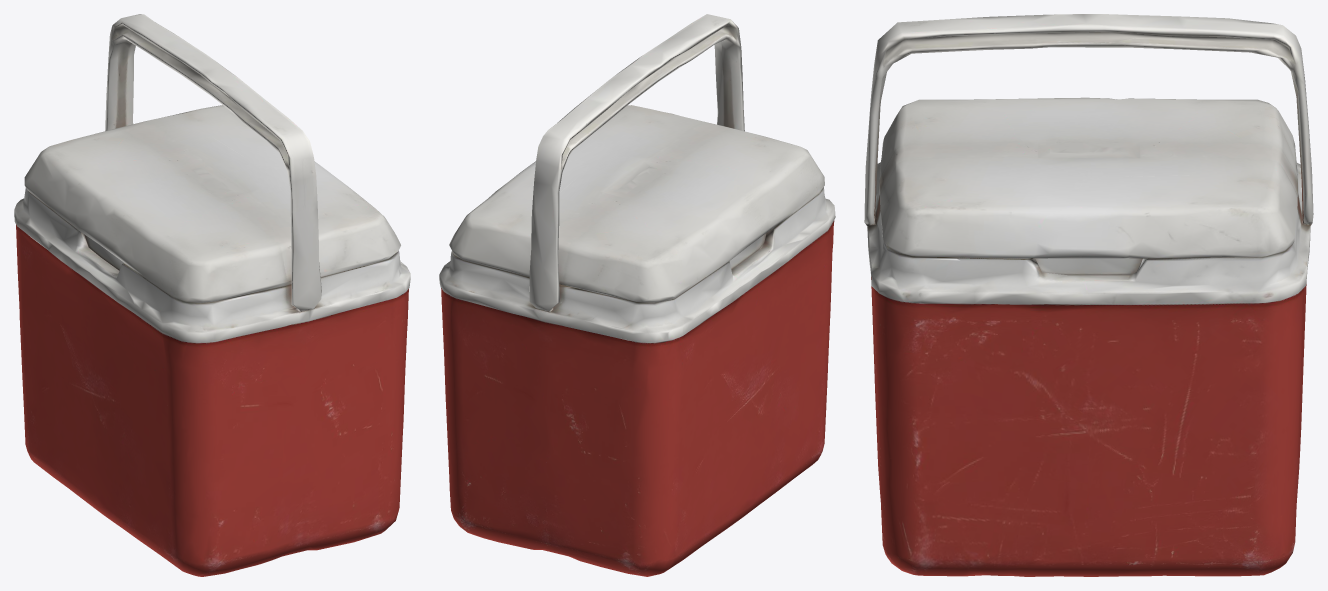
File: nevera.glb
3 renders of one model, left to right at view 1: azimuth 30°, elevation 25°; view 2: azimuth 150°, elevation 25°; view 3: azimuth 270°, elevation 25°, orthographic. The views are drawn at different scales.
Visible parts, largest first — view 1: tripo_node_0f616843-054e-4154-ac93-871c62f608e1; view 2: tripo_node_0f616843-054e-4154-ac93-871c62f608e1; view 3: tripo_node_0f616843-054e-4154-ac93-871c62f608e1.
Part boxes in pixels (x1,y1,x2,y2): tripo_node_0f616843-054e-4154-ac93-871c62f608e1: (14,14,410,576); tripo_node_0f616843-054e-4154-ac93-871c62f608e1: (439,14,835,576); tripo_node_0f616843-054e-4154-ac93-871c62f608e1: (864,14,1313,576).
Size of the model in its own units: 0.1916 by 0.32 by 0.2575.
Materials: 1 (1 with a texture image).
